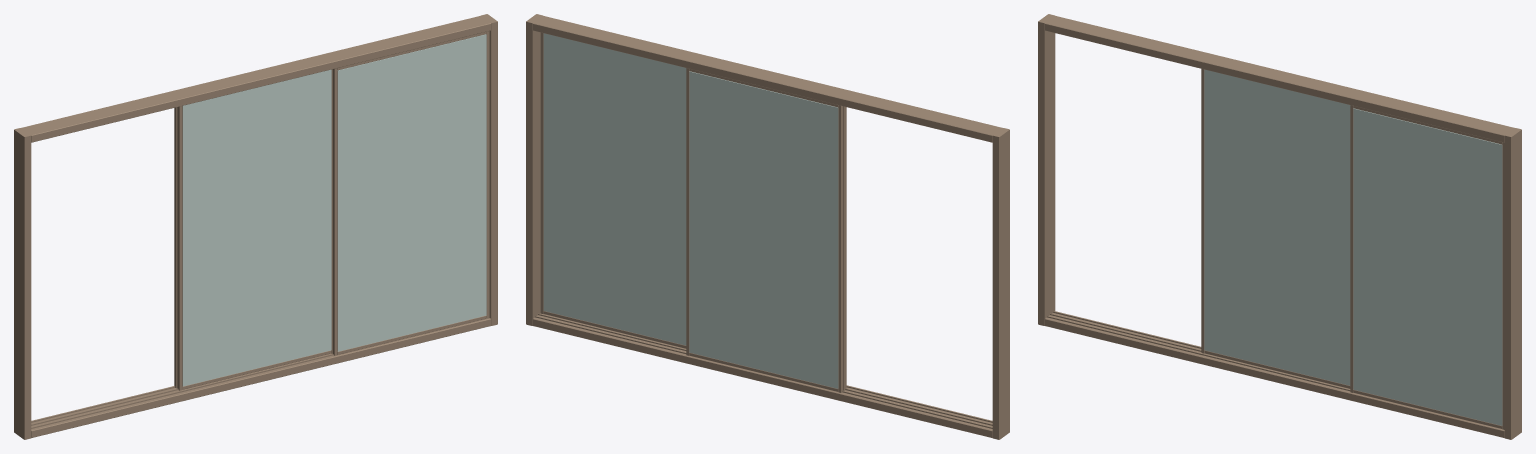
Rendered from co-S140RP-3-quartz-1019-ouvert.glb.
3 renders of one model, left to right at view 1: azimuth 30°, elevation 25°; view 2: azimuth 150°, elevation 25°; view 3: azimuth 330°, elevation 25°, orthographic.
Parts seen in each view (by area): view 1: verre, structure; view 2: verre, structure; view 3: verre, structure.
Part boxes in pixels (x1,y1,x2,y2): verre: [182, 34, 486, 386]; structure: [14, 14, 497, 439]; verre: [543, 33, 838, 388]; structure: [526, 14, 1009, 439]; verre: [1204, 69, 1502, 425]; structure: [1038, 14, 1521, 439].
Size of the model in its own units: 3.6 by 2.2 by 0.14.
